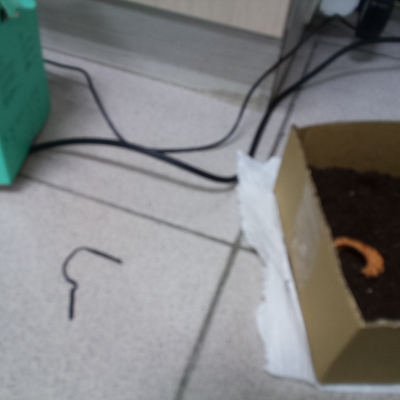eggs: (326, 226, 387, 286)
